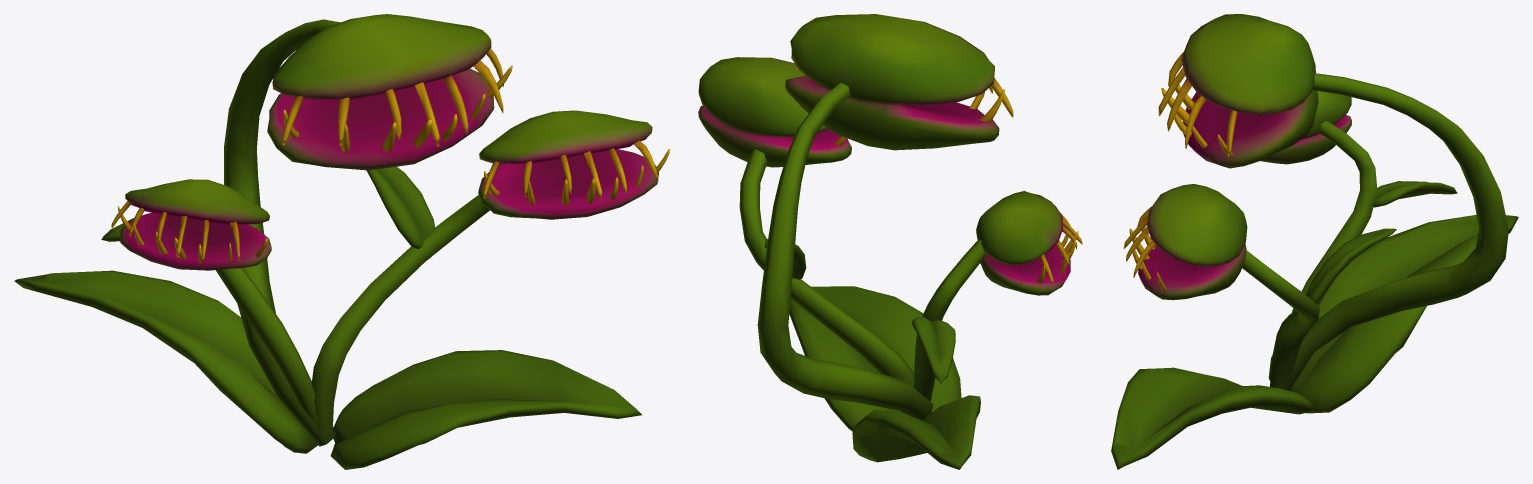
The model's file is Plant_7.fbx.
3 views of the same model, side by side, from view 1: azimuth 30°, elevation 25°; view 2: azimuth 150°, elevation 25°; view 3: azimuth 270°, elevation 25° (orthographic). The views are drawn at different scales.
Parts seen in each view (by area): view 1: Plant_7; view 2: Plant_7; view 3: Plant_7.
Part boxes in pixels (bbox=[...]): Plant_7: bbox=[14, 14, 669, 469]; Plant_7: bbox=[698, 14, 1082, 469]; Plant_7: bbox=[1111, 14, 1518, 469].
Size of the model in its own units: 537 by 477 by 448.
